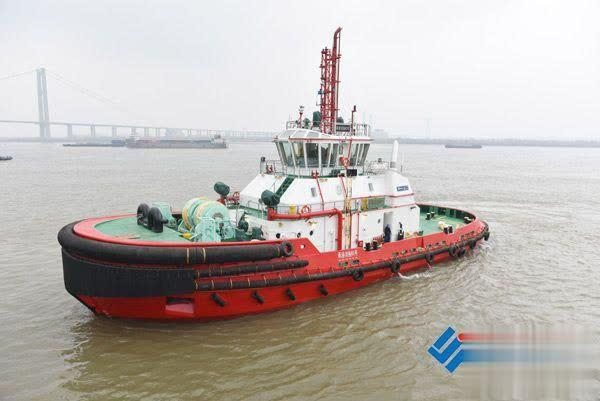otherboat: (51, 42, 489, 335)
